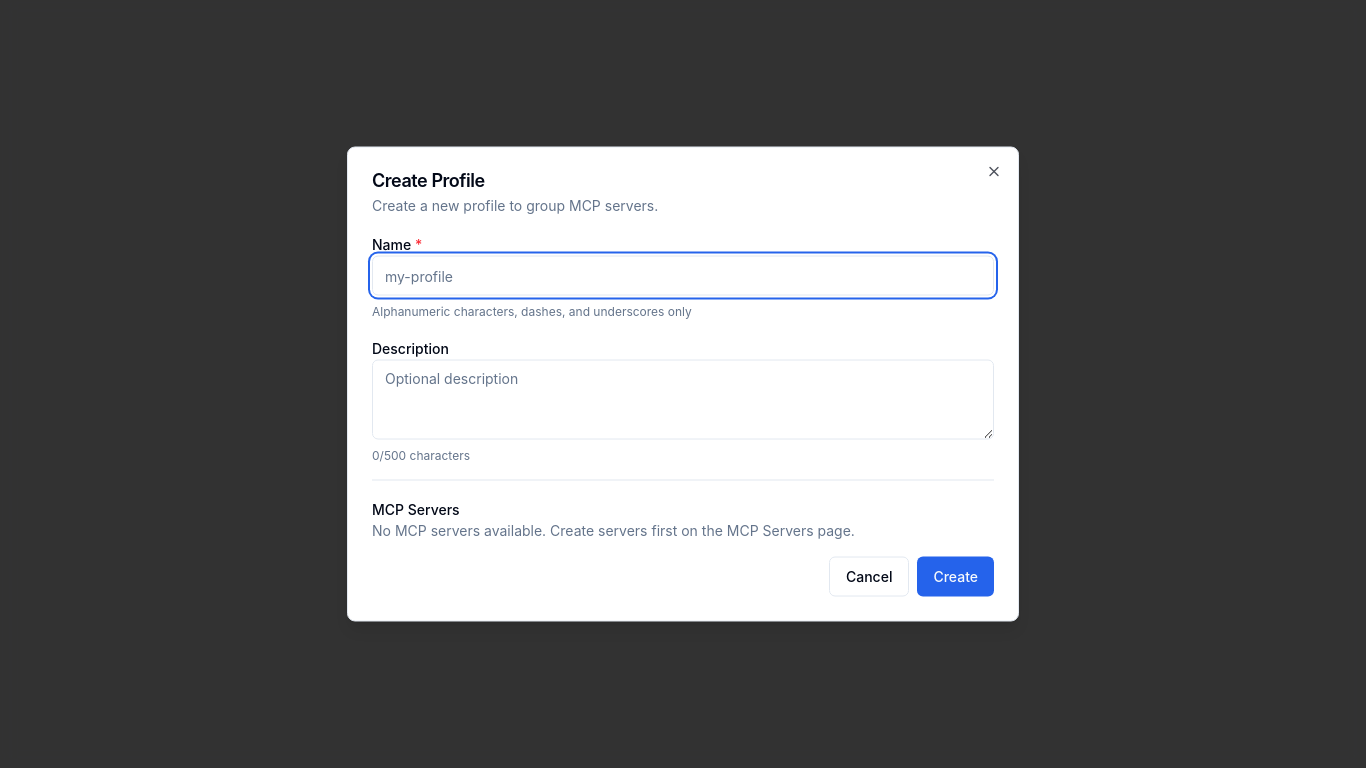
Test case: ProfileForm › should validate invalid name characters
Check: the dialog is shown, box 347,146 -> 1019,622
Check: the heading "Create Profile" is shown, box 372,170 -> 485,190
In the field labelled "Name *": (683, 276) 372,256 -> 994,296, type "invalid name!"
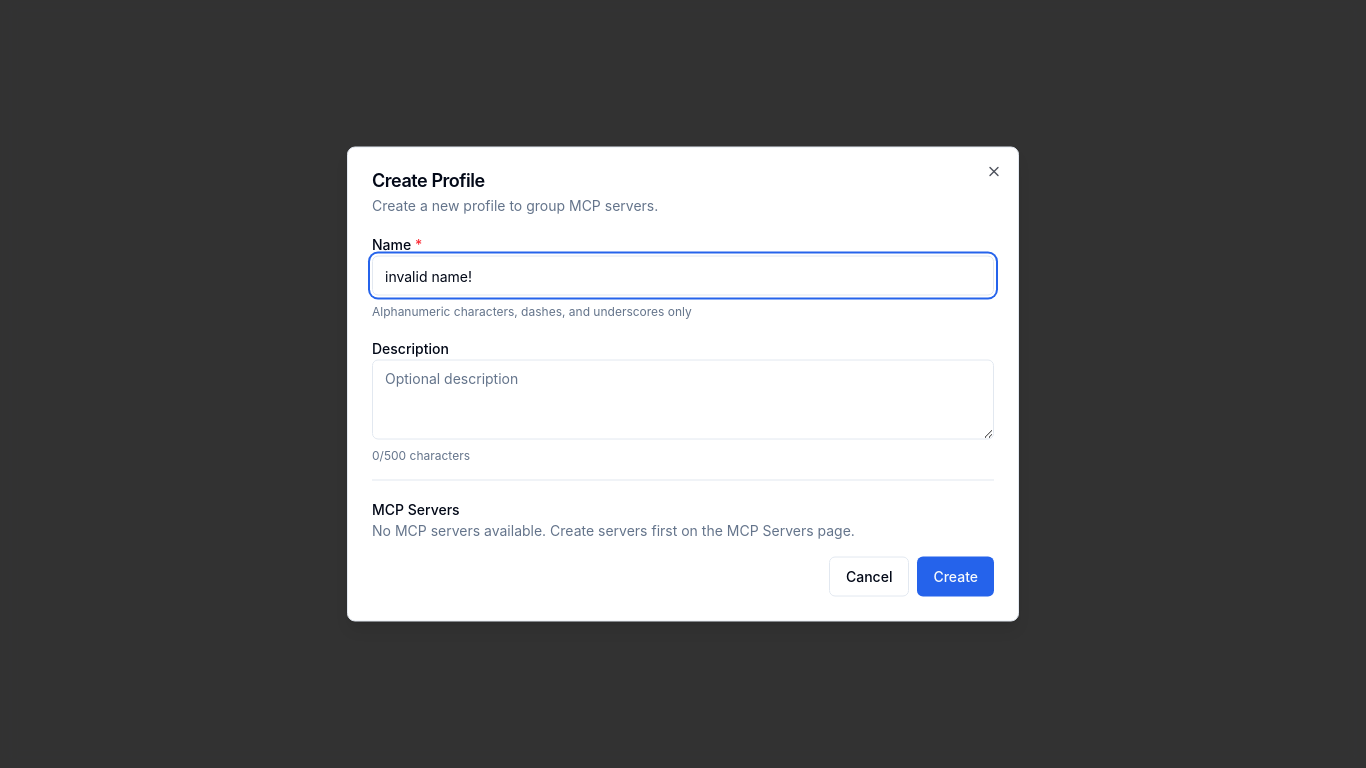
Click the button "Create": (956, 576) 917,556 -> 994,596
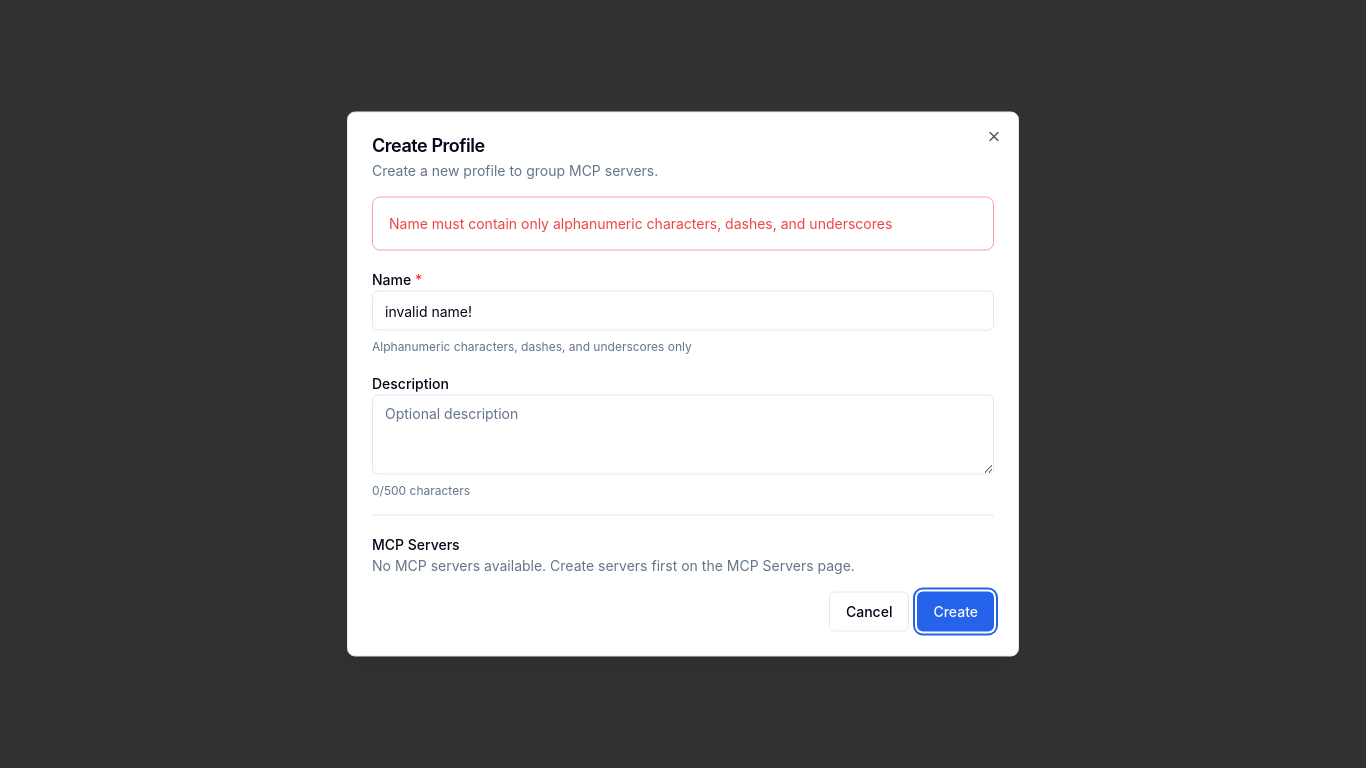
Check: the text "Name must contain only alphanumeric characters, dashes, and underscores" is shown, box 389,214 -> 977,234
